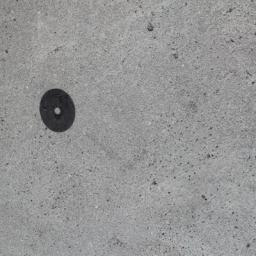FOD: (38, 86, 82, 137)
